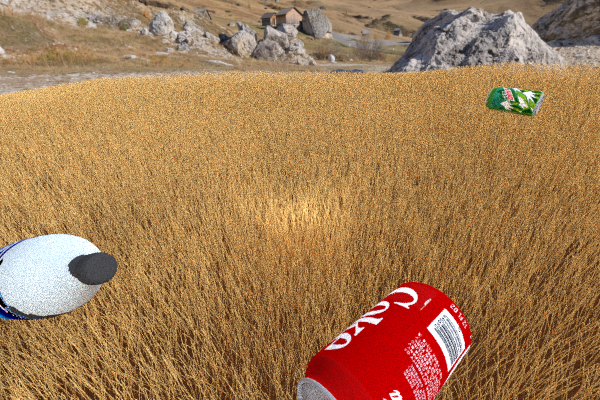bottle: (0, 233, 117, 319)
can: (296, 281, 471, 400), (485, 86, 544, 116)
